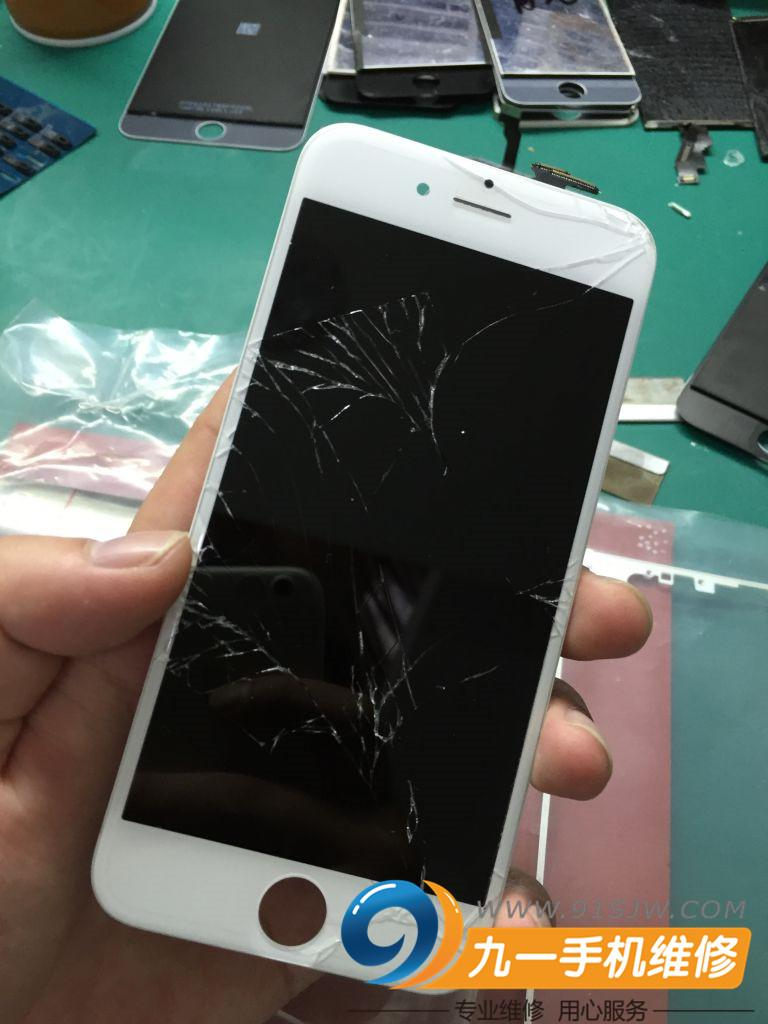phone: (104, 223, 652, 901)
